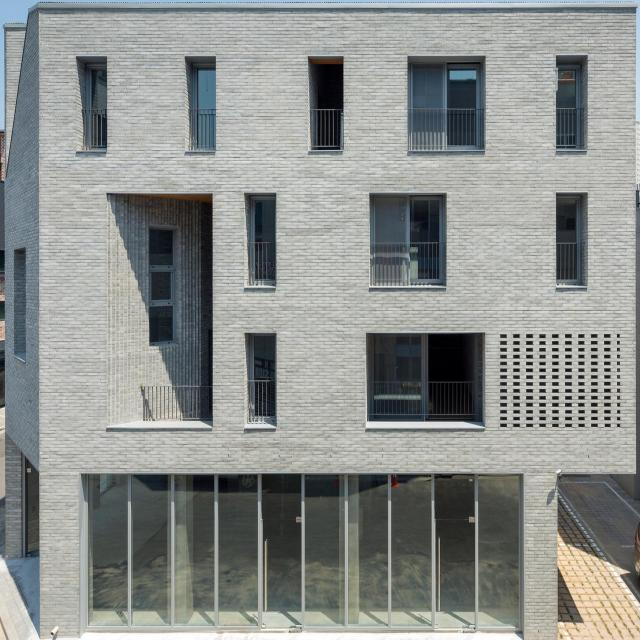door: (89, 470, 521, 630)
railing: (371, 379, 481, 418), (371, 238, 448, 284), (411, 105, 481, 143), (141, 383, 213, 418), (311, 107, 341, 149), (248, 379, 276, 419), (251, 238, 276, 281), (557, 238, 583, 278), (193, 107, 217, 149), (85, 106, 109, 145), (558, 106, 581, 146)
window: (375, 194, 445, 239), (149, 223, 175, 341), (413, 64, 477, 106), (375, 332, 421, 380), (252, 192, 279, 240), (250, 333, 277, 376), (558, 63, 583, 106), (556, 196, 580, 237), (87, 62, 109, 106), (198, 67, 217, 106)
